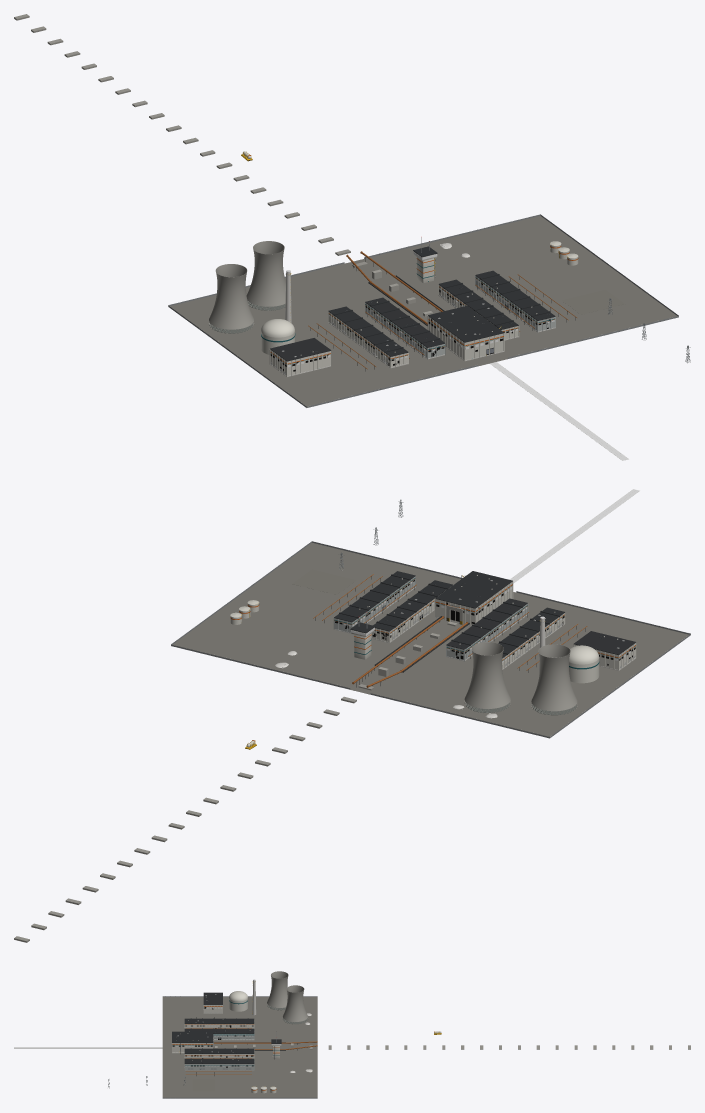
The model's file is mass-driver.glb.
The picture shows the model from 3 angles, top to bottom: view 1: azimuth 30°, elevation 25°; view 2: azimuth 150°, elevation 25°; view 3: azimuth 270°, elevation 25°; orthographic projection. The views are drawn at different scales.
Parts seen in each view (by area): view 1: C0_-1_lod0, C-2_0_lod0, C-1_-1_lod0, C0_-2_lod0, C-2_-2_lod0, C-2_-1_lod0, C-1_-2_lod0, C0_0_lod0, C0_-4_lod0, C1_-2_lod0; view 2: C0_-1_lod0, C-2_0_lod0, C-1_-1_lod0, C0_-2_lod0, C-2_-1_lod0, C-2_-2_lod0, C0_0_lod0, C-1_-2_lod0, C1_-2_lod0, C0_-4_lod0; view 3: C0_-1_lod0, C-2_0_lod0, C-1_-1_lod0, C0_-2_lod0, C-2_-1_lod0, C1_-2_lod0, C-2_-2_lod0, C2_-1_lod0, C0_-4_lod0, C1_-1_lod0, C0_0_lod0.
Boxes of the visible parts, x1=… form: C0_-1_lod0: x1=170, y1=216, x2=677, y2=406; C-2_0_lod0: x1=209, y1=241, x2=291, y2=333; C-1_-1_lod0: x1=328, y1=282, x2=445, y2=367; C0_-2_lod0: x1=428, y1=296, x2=554, y2=360; C-2_-2_lod0: x1=270, y1=338, x2=396, y2=376; C-2_-1_lod0: x1=261, y1=270, x2=378, y2=369; C-1_-2_lod0: x1=364, y1=313, x2=483, y2=367; C0_0_lod0: x1=352, y1=237, x2=442, y2=311; C0_-4_lod0: x1=490, y1=362, x2=628, y2=460; C1_-2_lod0: x1=542, y1=289, x2=624, y2=328; C0_-1_lod0: x1=172, y1=542, x2=688, y2=736; C-2_0_lod0: x1=453, y1=642, x2=577, y2=718; C-1_-1_lod0: x1=403, y1=598, x2=565, y2=671; C0_-2_lod0: x1=370, y1=571, x2=512, y2=626; C-2_-1_lod0: x1=502, y1=613, x2=617, y2=683; C-2_-2_lod0: x1=536, y1=612, x2=636, y2=670; C0_0_lod0: x1=350, y1=612, x2=443, y2=690; C-1_-2_lod0: x1=455, y1=577, x2=560, y2=634; C1_-2_lod0: x1=292, y1=552, x2=398, y2=599; C0_-4_lod0: x1=509, y1=489, x2=639, y2=583; C0_-1_lod0: x1=162, y1=997, x2=317, y2=1097; C-2_0_lod0: x1=267, y1=971, x2=311, y2=1024; C-1_-1_lod0: x1=184, y1=1018, x2=285, y2=1044; C0_-2_lod0: x1=172, y1=1031, x2=217, y2=1063; C-2_-1_lod0: x1=217, y1=979, x2=256, y2=1019; C1_-2_lod0: x1=183, y1=1062, x2=216, y2=1091; C-2_-2_lod0: x1=196, y1=992, x2=222, y2=1018; C2_-1_lod0: x1=162, y1=1086, x2=317, y2=1098; C0_-4_lod0: x1=14, y1=1047, x2=162, y2=1048; C1_-1_lod0: x1=186, y1=1064, x2=254, y2=1074; C0_0_lod0: x1=254, y1=1032, x2=317, y2=1059.
Size of what is drawn, in the model's own units: 760 by 122 by 2141.
